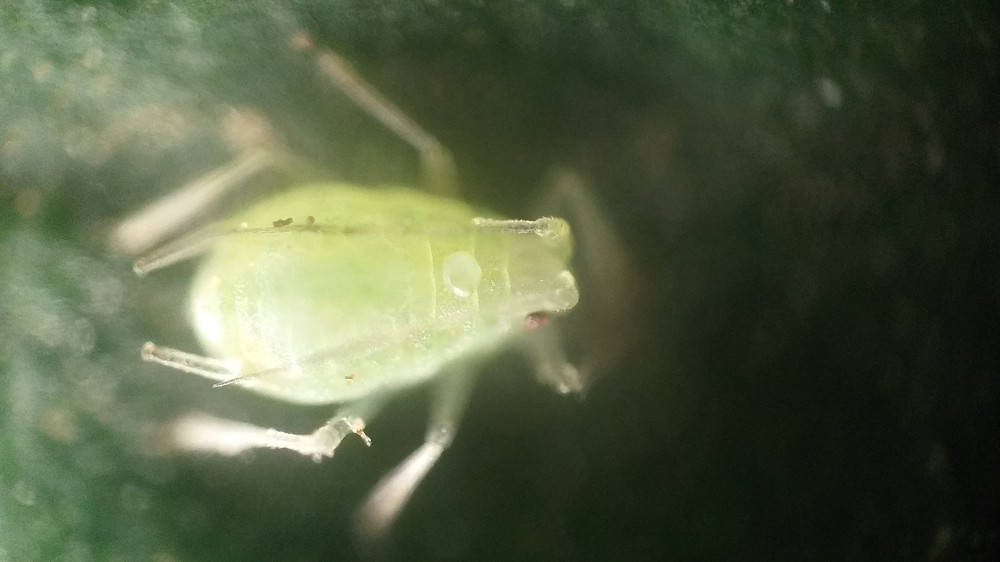Pulgon: (110, 59, 680, 543)
